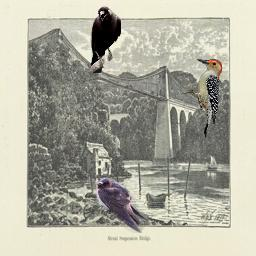Crow: (90, 6, 121, 73)
Swallow: (95, 177, 149, 233)
Woodpecker: (182, 59, 222, 138)
